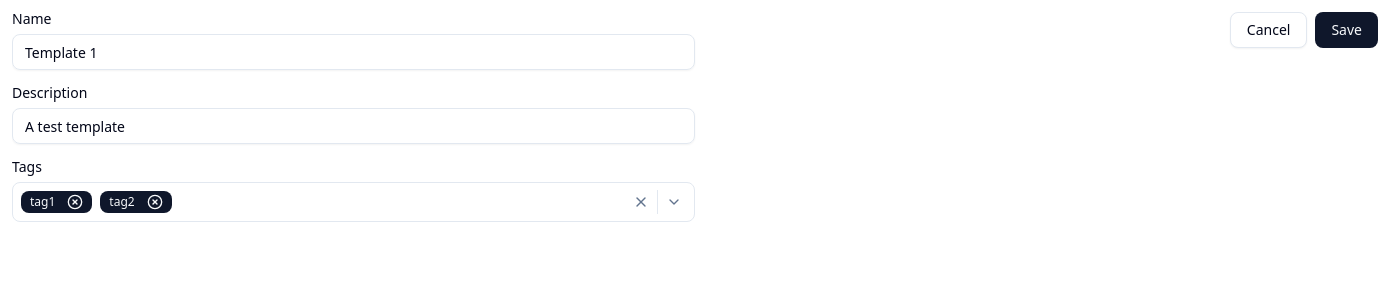
Test case: FormHeading › validates required fields
Clear the field labelled "Name": point(354, 52) 12,34 -> 695,70
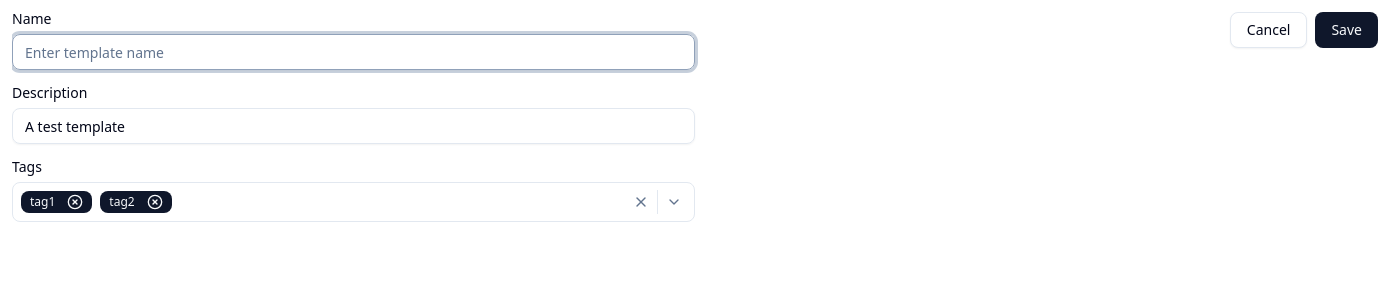
Clear the field labelled "Description": point(354, 126) 12,108 -> 695,144
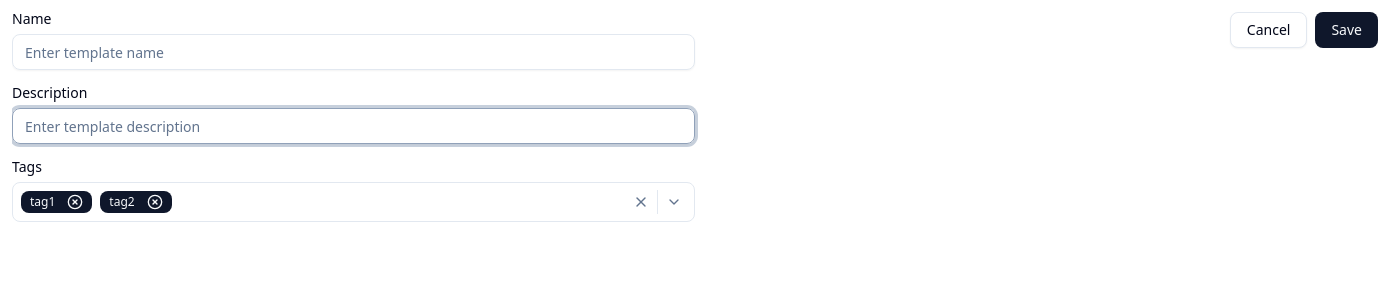
Click the button "Save": point(1347, 30) 1315,12 -> 1378,48
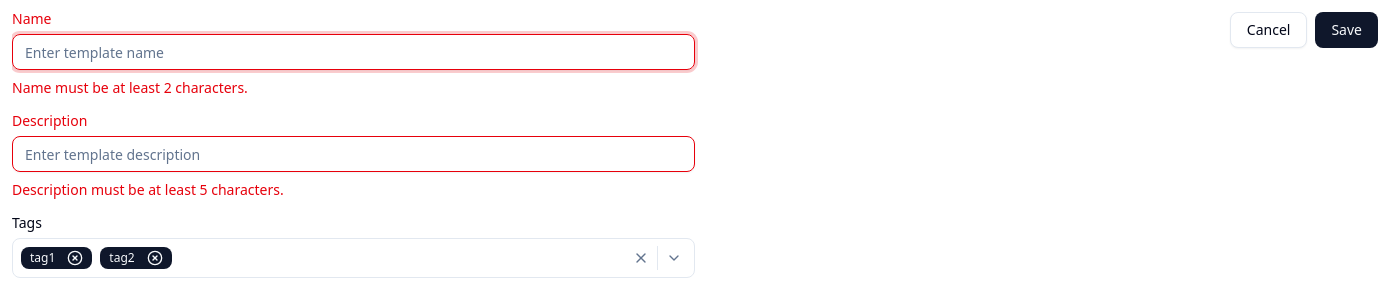
Expected: the text "Name must be at least 2 characters." is shown, 12,78 -> 248,97
Expected: the text "Description must be at least 5 characters." is shown, 12,180 -> 284,199
